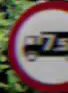Heavy Vehicles: (8, 4, 67, 80)
